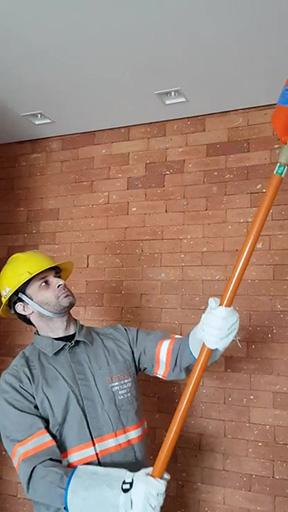Vara_Manobra: (139, 144, 288, 507)
